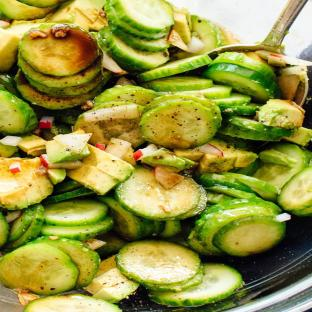Cucumber: (116, 166, 201, 220), (198, 200, 275, 255), (149, 263, 243, 306), (19, 25, 98, 76), (0, 244, 78, 295), (140, 100, 219, 148), (116, 240, 200, 285), (28, 237, 99, 288), (16, 70, 101, 109), (74, 101, 144, 148), (99, 26, 168, 72), (203, 63, 281, 103), (213, 216, 285, 256), (18, 57, 101, 89), (97, 196, 154, 241), (146, 92, 221, 126), (253, 143, 308, 188), (105, 2, 169, 40), (175, 15, 226, 58), (212, 52, 277, 82), (138, 55, 211, 81), (26, 73, 110, 95), (5, 204, 44, 249), (41, 216, 113, 240), (221, 173, 279, 202), (45, 199, 107, 226), (0, 90, 37, 135), (24, 294, 121, 311), (144, 265, 204, 292), (111, 25, 169, 52), (278, 167, 311, 214), (223, 115, 293, 136), (94, 86, 158, 106), (193, 174, 257, 194), (218, 121, 281, 141), (203, 199, 281, 214), (141, 76, 213, 92), (185, 218, 212, 256), (8, 207, 33, 242), (42, 187, 95, 203), (96, 232, 126, 259), (180, 188, 206, 219), (205, 185, 260, 199), (216, 133, 256, 152), (214, 99, 260, 115), (181, 85, 232, 99), (6, 22, 52, 36), (43, 121, 72, 140), (229, 159, 260, 176), (207, 186, 234, 205), (51, 109, 83, 125), (0, 73, 20, 98), (214, 93, 251, 106), (159, 220, 181, 239), (54, 181, 83, 194), (0, 213, 9, 247), (149, 220, 165, 238), (290, 207, 311, 216), (302, 148, 311, 165)
